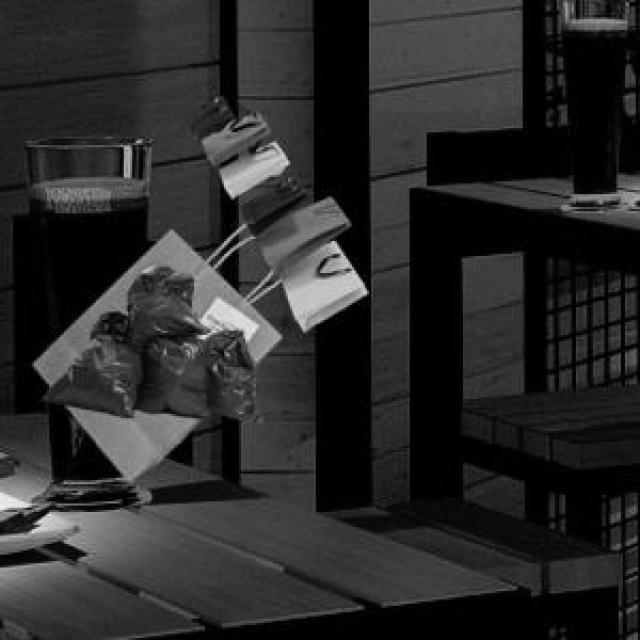miscellaneous trash: (38, 260, 257, 418)
paper: (30, 226, 277, 478), (179, 92, 363, 326)
